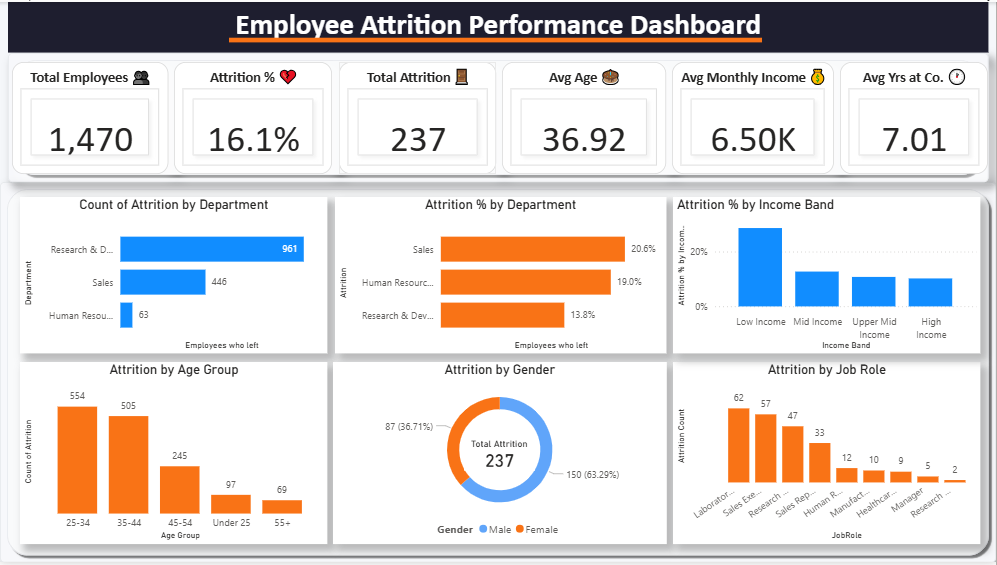

The dashboard page shown, as its layout file describes it:
{"tool":"powerbi","page":{"name":"Summary","canvas":[1280,720],"ordinal":0},"visuals":[{"type":"shape","box":[0,230.9,1280,489.2],"z":500},{"type":"shape","box":[10.1,64.9,1259.8,166],"z":1000},{"type":"cardVisual","title":"Total Employees 👥","fields":{"Data":["WA_Fn-UseC_-HR-Employee-Attrition.Total Employees Display"]},"box":[15.9,76.5,200.6,144.3],"z":2000},{"type":"cardVisual","title":"Attrition % 💔","fields":{"Data":["WA_Fn-UseC_-HR-Employee-Attrition.Attrition %"]},"box":[224.3,76.5,203.5,144.3],"z":3000},{"type":"cardVisual","title":"Total Attrition 🚪","fields":{"Data":["WA_Fn-UseC_-HR-Employee-Attrition.Total Attrition"]},"box":[435.5,76.5,202,144.3],"z":4000},{"type":"cardVisual","title":"Avg Age 🎂","fields":{"Data":["WA_Fn-UseC_-HR-Employee-Attrition.Average Age"]},"box":[645.3,76.5,210.7,144.3],"z":5000},{"type":"cardVisual","title":"Avg Monthly Income 💰","fields":{"Data":["WA_Fn-UseC_-HR-Employee-Attrition.Average Monthly Income"]},"box":[863.8,76.5,207.8,144.3],"z":6000},{"type":"cardVisual","title":"Avg Yrs at Co. 🕐","fields":{"Data":["WA_Fn-UseC_-HR-Employee-Attrition.Average Years at Company"]},"box":[1079.4,76.5,190.5,144.3],"z":7000},{"type":"barChart","fields":{"Category":["WA_Fn-UseC_-HR-Employee-Attrition.Department"],"Y":["CountNonNull(WA_Fn-UseC_-HR-Employee-Attrition.Attrition)"]},"box":[26,251.1,395.4,200.6],"z":8000},{"type":"barChart","fields":{"Category":["WA_Fn-UseC_-HR-Employee-Attrition.Department"],"Y":["WA_Fn-UseC_-HR-Employee-Attrition.Attrition %"]},"box":[430,251.1,425.7,200.6],"z":9000},{"type":"clusteredColumnChart","title":"Attrition by Age Group","fields":{"Category":["WA_Fn-UseC_-HR-Employee-Attrition.Age Group"],"Y":["CountNonNull(WA_Fn-UseC_-HR-Employee-Attrition.Attrition)"]},"box":[26,463.2,395.4,233.8],"z":10000},{"type":"donutChart","title":"Attrition by Gender","fields":{"Category":["WA_Fn-UseC_-HR-Employee-Attrition.Gender"],"Y":["WA_Fn-UseC_-HR-Employee-Attrition.Attrition Count"]},"box":[428.6,463.2,428.6,233.8],"z":11000},{"type":"card","title":"Total Attrition","fields":{"Values":["WA_Fn-UseC_-HR-Employee-Attrition.Total Attrition"]},"box":[596,559.9,90.9,41.8],"z":12000},{"type":"clusteredColumnChart","title":"Attrition by Job Role","fields":{"Category":["WA_Fn-UseC_-HR-Employee-Attrition.JobRole"],"Y":["WA_Fn-UseC_-HR-Employee-Attrition.Attrition Count"]},"box":[864.4,463.2,395.4,233.8],"z":13000},{"type":"textbox","box":[10.1,0,1259.8,64.9],"z":14000},{"type":"clusteredColumnChart","title":"Attrition % by Income Band","fields":{"Category":["WA_Fn-UseC_-HR-Employee-Attrition.Income Band"],"Y":["WA_Fn-UseC_-HR-Employee-Attrition.Attrition % by Income Band"]},"box":[864.4,251.1,395.4,200.6],"z":15000},{"type":"shape","box":[294.4,41.8,685.5,13],"z":16000}]}

Visuals, with their boxes in screenshot pixels (x1, y1, x2, y2), scaled from the page's 1280x720 canvas onto the 997x565 screenshot:
shape: 0,181,996,564
shape: 8,51,989,181
"Total Employees 👥" cardVisual: 12,60,169,173
"Attrition % 💔" cardVisual: 175,60,333,173
"Total Attrition 🚪" cardVisual: 339,60,497,173
"Avg Age 🎂" cardVisual: 503,60,667,173
"Avg Monthly Income 💰" cardVisual: 673,60,835,173
"Avg Yrs at Co. 🕐" cardVisual: 841,60,989,173
barChart - WA_Fn-UseC_-HR-Employee-Attrition.Department x CountNonNull(WA_Fn-UseC_-HR-Employee-Attrition.Attrition): 20,197,328,354
barChart - WA_Fn-UseC_-HR-Employee-Attrition.Department x WA_Fn-UseC_-HR-Employee-Attrition.Attrition %: 335,197,667,354
"Attrition by Age Group" clusteredColumnChart: 20,363,328,547
"Attrition by Gender" donutChart: 334,363,668,547
"Total Attrition" card: 464,439,535,472
"Attrition by Job Role" clusteredColumnChart: 673,363,981,547
textbox: 8,0,989,51
"Attrition % by Income Band" clusteredColumnChart: 673,197,981,354
shape: 229,33,763,43
